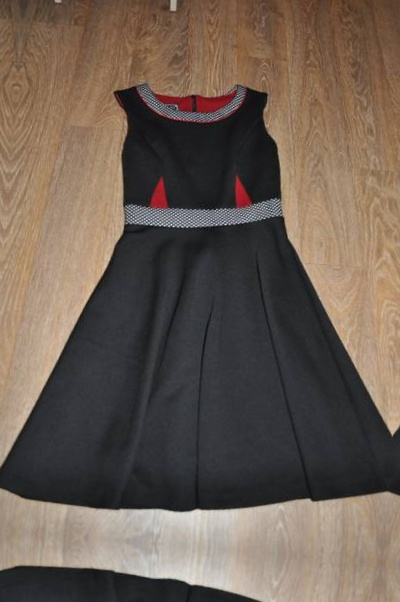Dress: (0, 52, 400, 540), (0, 552, 371, 602), (0, 18, 17, 506), (393, 87, 400, 575), (350, 587, 400, 602)
